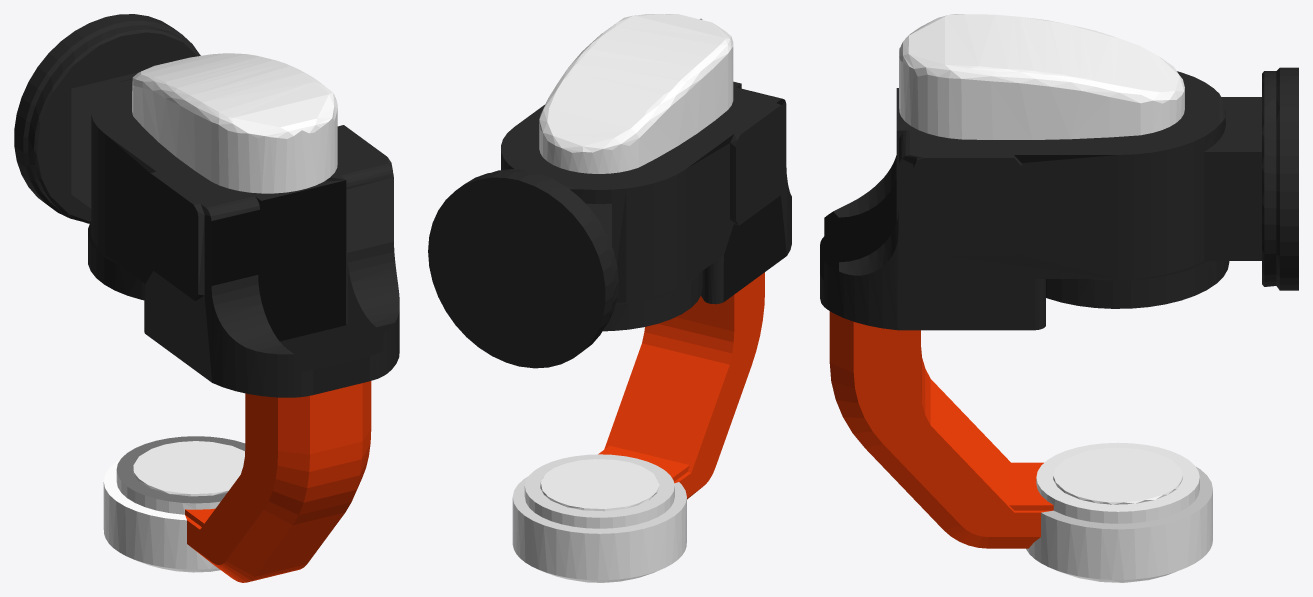
File: RARM_JOINT0_Link_mesh.obj
3 renders of one model, left to right at view 1: azimuth 30°, elevation 25°; view 2: azimuth 150°, elevation 25°; view 3: azimuth 270°, elevation 25°, orthographic. The views are drawn at different scales.
Visible parts, largest first — view 1: shape2-lib, shape0-lib, shape1-lib; view 2: shape2-lib, shape0-lib, shape1-lib; view 3: shape2-lib, shape0-lib, shape1-lib.
Boxes of the visible parts, box(x1,y1,x2,y2) form: shape2-lib: box(14, 14, 399, 397); shape0-lib: box(103, 53, 337, 572); shape1-lib: box(185, 381, 371, 582); shape2-lib: box(428, 81, 791, 368); shape0-lib: box(512, 14, 733, 582); shape1-lib: box(598, 272, 764, 499); shape2-lib: box(820, 67, 1298, 330); shape0-lib: box(899, 14, 1212, 582); shape1-lib: box(829, 311, 1053, 548).
Size of the model in its own units: 0.096 by 0.2385 by 0.1992.
